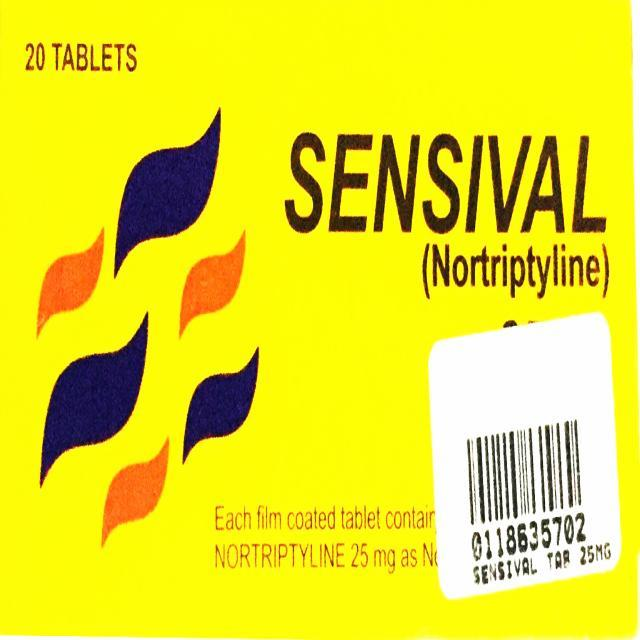drug-name: (282, 127, 610, 237)
